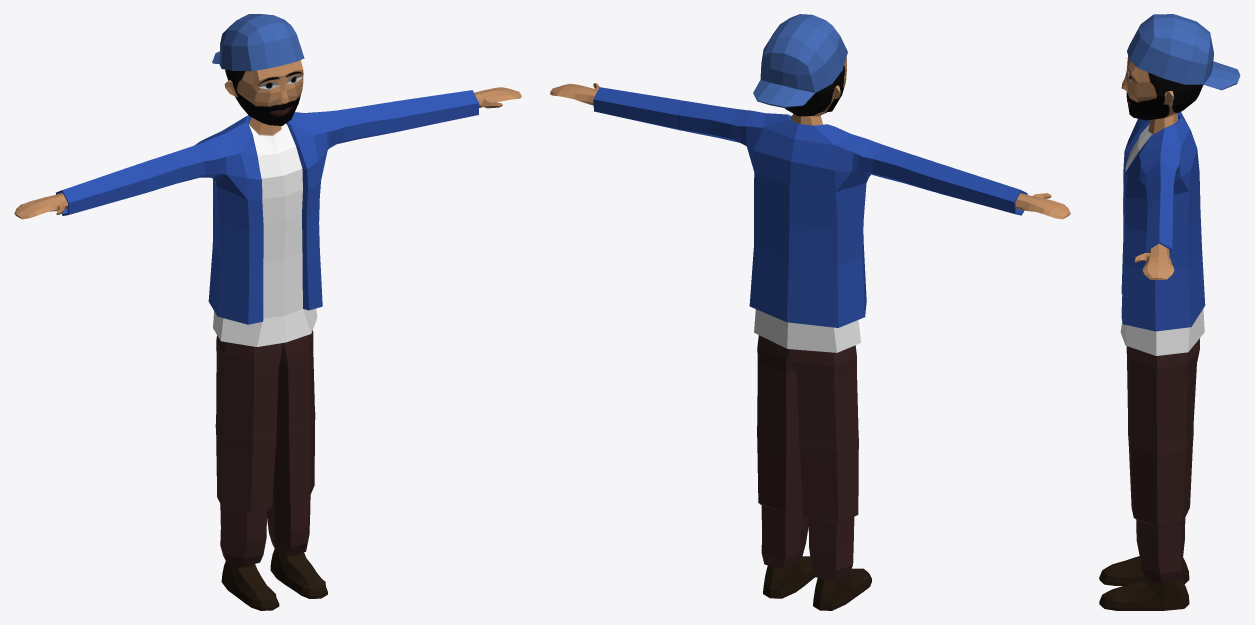
File: delh_char_03.fbx
3 renders of one model, left to right at view 1: azimuth 30°, elevation 25°; view 2: azimuth 150°, elevation 25°; view 3: azimuth 270°, elevation 25°, orthographic. The views are drawn at different scales.
Visible parts, largest first — view 1: delh_char_03; view 2: delh_char_03; view 3: delh_char_03.
Boxes of the visible parts, x1,y1,x2,y2 form: delh_char_03: [14, 14, 521, 610]; delh_char_03: [550, 14, 1070, 610]; delh_char_03: [1099, 14, 1240, 610].
Bounding box in the file's own units: 171 × 183 × 40.64.
